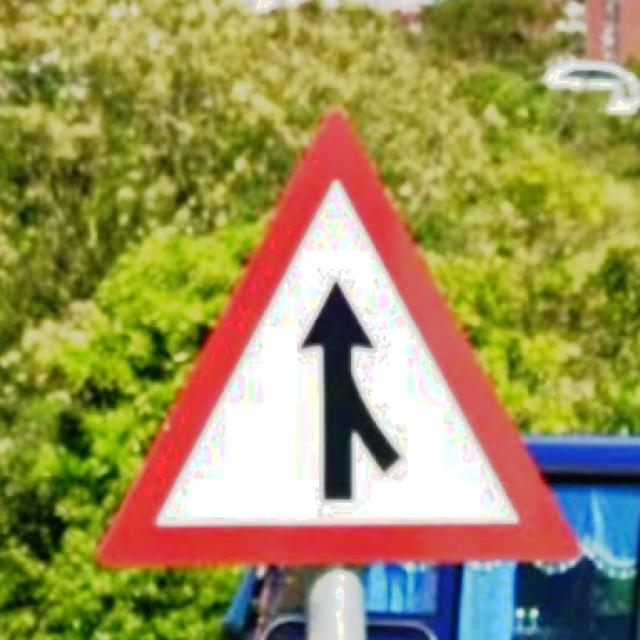rightmerge: (93, 103, 580, 564)
